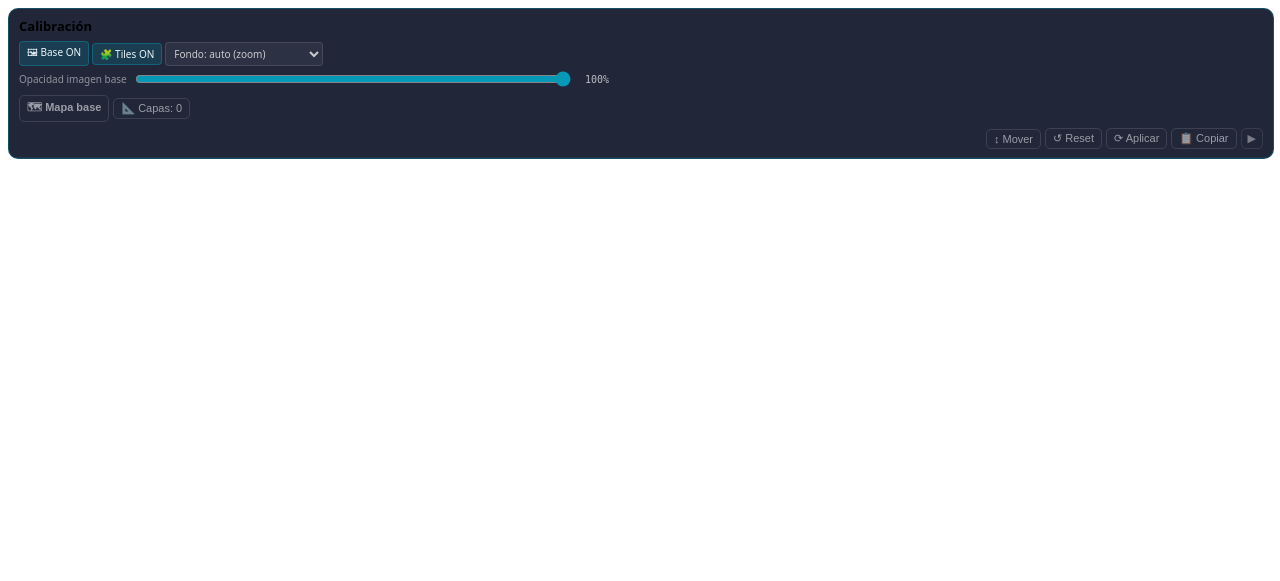
Scenario: CalibrationPanel multi-layer › shows a single Margen viewport slider in non-ecosistemas maps
This screenshot has width=1280, height=581.
Click the button titled "Mostrar panel": (1252, 138) [1240,128,1263,149]
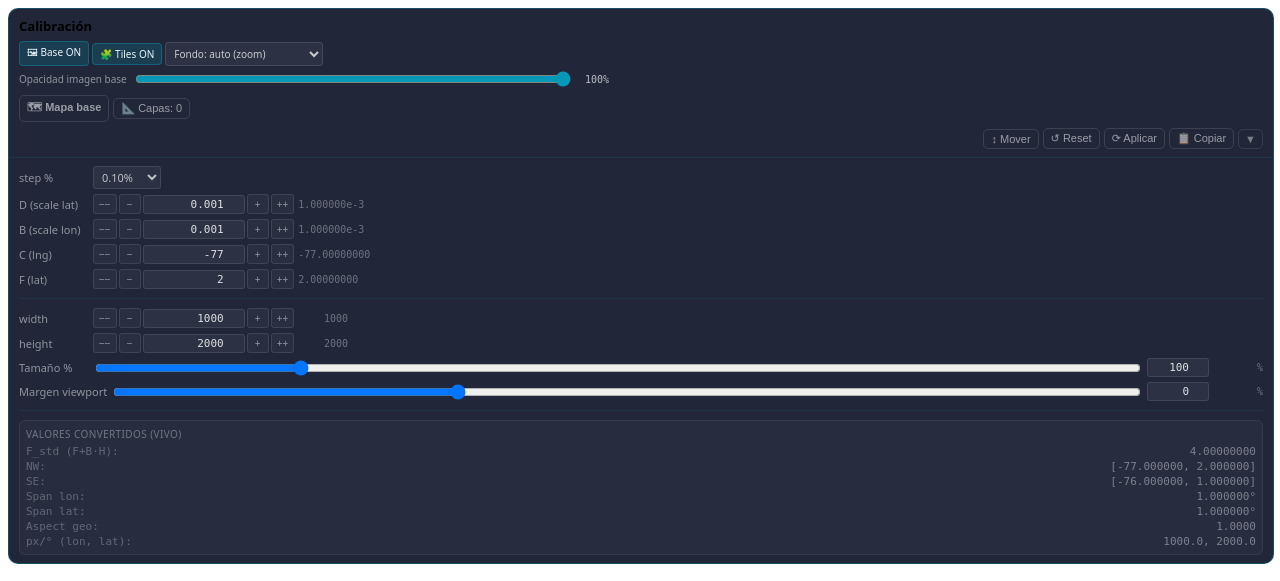
Expected: the text "Margen viewport" is shown, [19,384,107,399]
